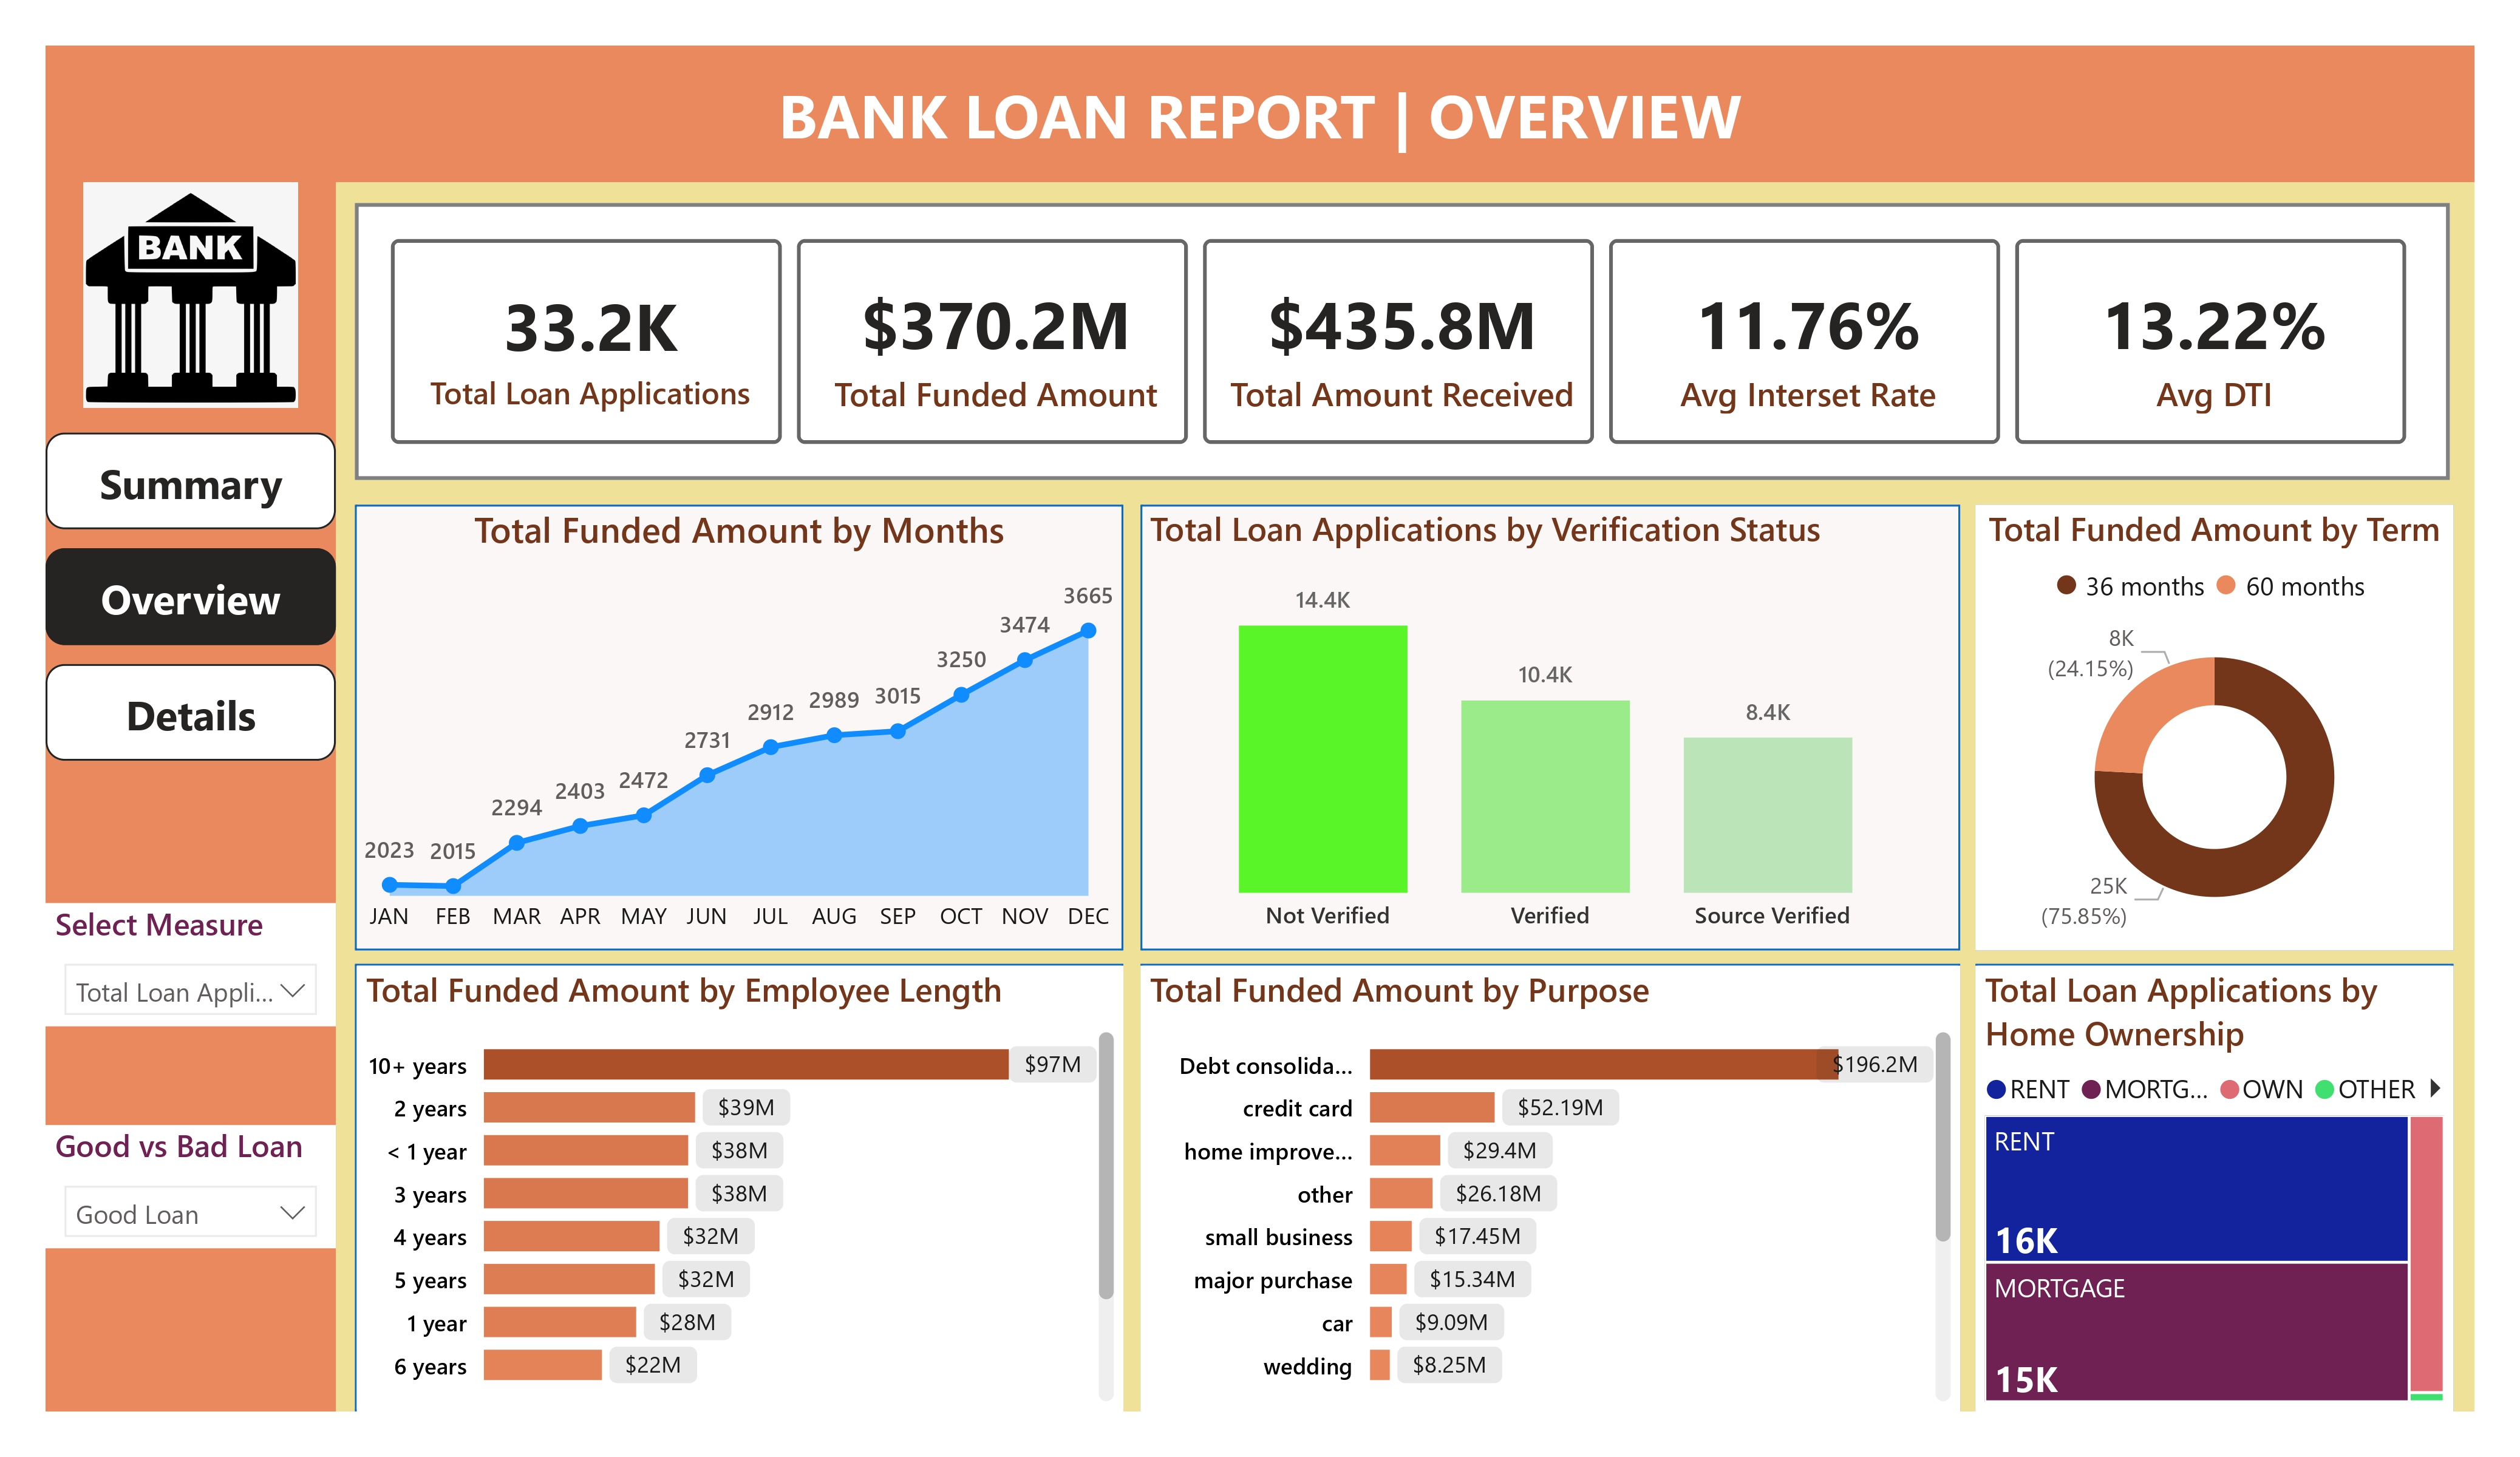

The page's visual inventory and layout, read from the dashboard file:
{"tool":"powerbi","page":{"name":"Overview","canvas":[1280,720],"ordinal":1},"visuals":[{"type":"shape","box":[0,0,1280,72.1],"z":0},{"type":"shape","box":[0,72.1,153,648.1],"z":1000},{"type":"textbox","box":[365.1,8.7,549.8,63.4],"z":2000},{"type":"textbox","box":[174.2,92.1,192.8,38.6],"z":3000},{"type":"shape","box":[163.2,241.7,404.9,235.6],"z":5000},{"type":"pageNavigator","box":[0,203.7,153.4,173],"z":6000},{"type":"image","box":[0,72.4,153.4,119],"z":7000},{"type":"shape","box":[576.7,241.7,431.9,235.6],"z":8000},{"type":"shape","box":[163.2,484.4,404.9,235.6],"z":9000},{"type":"shape","box":[1017.2,241.7,251.5,235.6],"z":10000},{"type":"shape","box":[1017.2,484.4,251.5,235.6],"z":11000},{"type":"shape","box":[576.7,484.4,431.9,235.6],"z":12000},{"type":"areaChart","title":"Total Funded Amount by Months","fields":{"Y":["financial_loan.Total Loan Applications"],"Category":["Date Table.Months Name"]},"box":[163.2,241.7,404.9,235.6],"z":13000},{"type":"slicer","title":"Select Measure","fields":{"Values":["Select Measure.Select Measure"]},"box":[0,451.5,153.4,65],"z":14000},{"type":"donutChart","title":"Total Funded Amount by Term","fields":{"Category":["financial_loan.term"],"Y":["financial_loan.Total Loan Applications"]},"box":[1017.2,241.7,251.5,235.6],"z":14001},{"type":"clusteredBarChart","title":"Total Funded Amount by Employee Length","fields":{"Category":["financial_loan.emp_length"],"Y":["financial_loan.Total Funded Amount"]},"box":[164.4,484.7,403.7,235.6],"z":14002},{"type":"clusteredBarChart","title":"Total Funded Amount by Purpose","fields":{"Y":["financial_loan.Total Funded Amount"],"Category":["financial_loan.purpose"]},"box":[576.7,484.7,431.9,235.6],"z":14003},{"type":"cardVisual","fields":{"Data":["financial_loan.Total Loan Applications","financial_loan.Total Funded Amount","financial_loan.Total Amount Received","Date Table.Avg Interset Rate","financial_loan.Avg DTI"]},"box":[163.2,83.4,1104.3,146],"z":14004},{"type":"treemap","fields":{"Group":["financial_loan.home_ownership"],"Values":["financial_loan.Total Loan Applications"]},"box":[1017.2,484.7,251.5,235.6],"z":14005},{"type":"slicer","title":"Good vs Bad Loan","fields":{"Values":["financial_loan.Good vs Bad Loans"]},"box":[0,569.3,153.4,65],"z":14006},{"type":"columnChart","fields":{"Y":["financial_loan.Total Loan Applications"],"Category":["financial_loan.verification_status"]},"box":[576.7,241.7,431.9,235.6],"z":14007}]}

Visuals, with their boxes on the page's 1280x720 design canvas (x1, y1, x2, y2). These are canvas units, not pixel positions in the 2520x1457 screenshot, which may show the page scaled, cropped or inside an application window:
shape: locate(0, 0, 1280, 72)
shape: locate(0, 72, 153, 720)
textbox: locate(365, 9, 915, 72)
textbox: locate(174, 92, 367, 131)
shape: locate(163, 242, 568, 477)
pageNavigator: locate(0, 204, 153, 377)
image: locate(0, 72, 153, 191)
shape: locate(577, 242, 1009, 477)
shape: locate(163, 484, 568, 720)
shape: locate(1017, 242, 1269, 477)
shape: locate(1017, 484, 1269, 720)
shape: locate(577, 484, 1009, 720)
"Total Funded Amount by Months" areaChart: locate(163, 242, 568, 477)
"Select Measure" slicer: locate(0, 452, 153, 516)
"Total Funded Amount by Term" donutChart: locate(1017, 242, 1269, 477)
"Total Funded Amount by Employee Length" clusteredBarChart: locate(164, 485, 568, 720)
"Total Funded Amount by Purpose" clusteredBarChart: locate(577, 485, 1009, 720)
cardVisual - financial_loan.Total Loan Applications x financial_loan.Total Funded Amount: locate(163, 83, 1268, 229)
treemap - financial_loan.home_ownership x financial_loan.Total Loan Applications: locate(1017, 485, 1269, 720)
"Good vs Bad Loan" slicer: locate(0, 569, 153, 634)
columnChart - financial_loan.Total Loan Applications x financial_loan.verification_status: locate(577, 242, 1009, 477)
